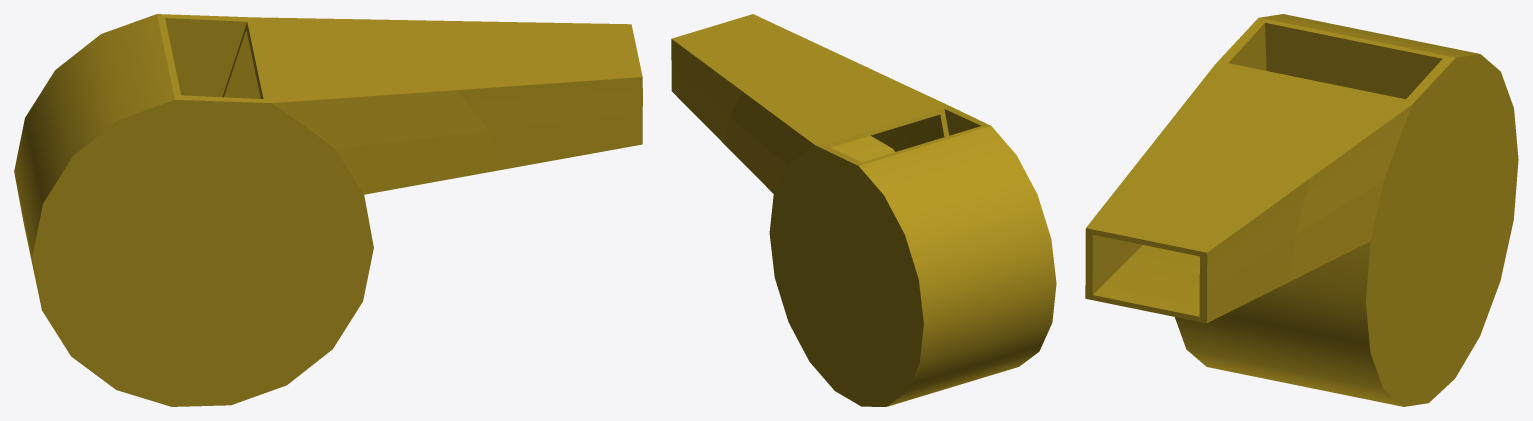
Rendered from Whistle.obj.
3 views of the same model, side by side, from view 1: azimuth 30°, elevation 25°; view 2: azimuth 150°, elevation 25°; view 3: azimuth 270°, elevation 25° (orthographic). The views are drawn at different scales.
Parts seen in each view (by area): view 1: Whistle; view 2: Whistle; view 3: Whistle.
Boxes of the visible parts, x1,y1,x2,y2 form: Whistle: (14,14,642,406); Whistle: (671,14,1056,406); Whistle: (1085,14,1518,406).
Bounding box in the file's own units: 5.76 × 3.11 × 3.76.
